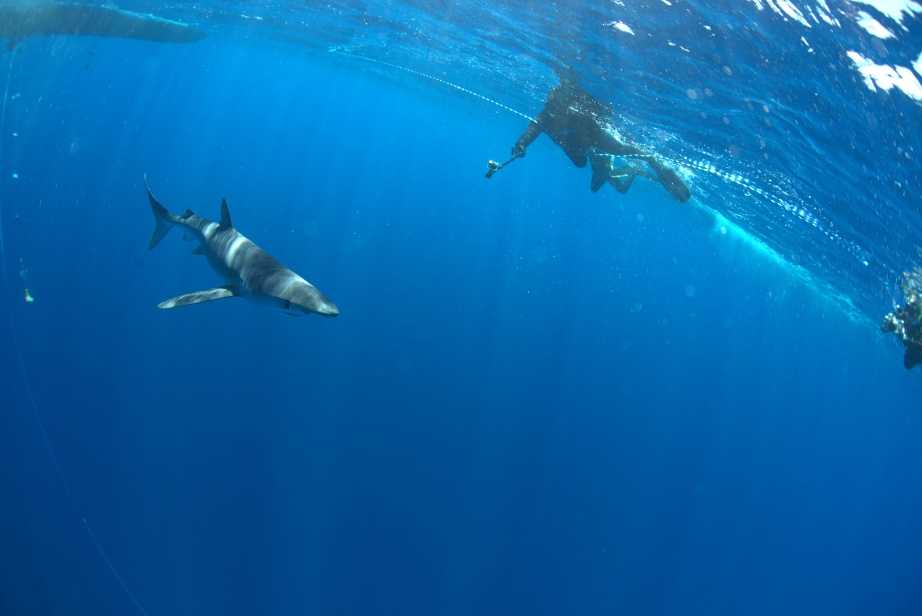Azul: (125, 178, 357, 342)
